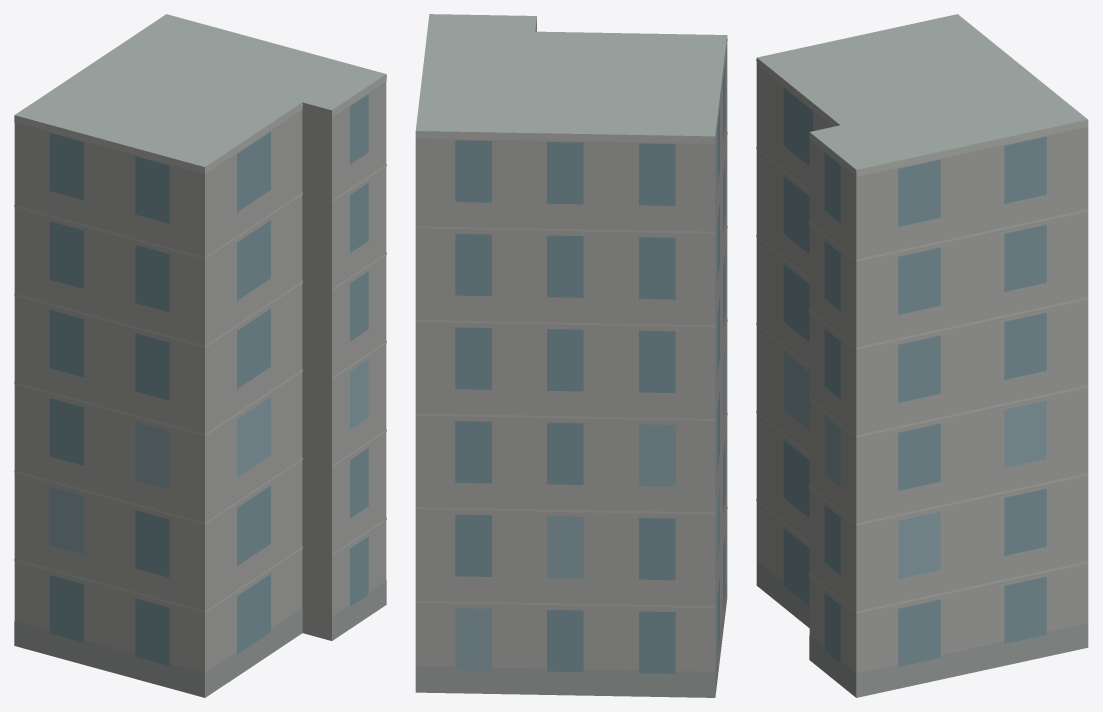
File: survey-upis-32824471.glb
The picture shows the model from 3 angles, left to right: view 1: azimuth 30°, elevation 25°; view 2: azimuth 150°, elevation 25°; view 3: azimuth 270°, elevation 25°; orthographic projection. The views are drawn at different scales.
Parts seen in each view (by area): view 1: survey-upis-32824471.tmp; view 2: survey-upis-32824471.tmp; view 3: survey-upis-32824471.tmp.
Part boxes in pixels (x1,y1,x2,y2): survey-upis-32824471.tmp: (14, 14, 386, 697); survey-upis-32824471.tmp: (415, 14, 727, 697); survey-upis-32824471.tmp: (756, 14, 1088, 697).
Bounding box in the file's own units: 11.52 × 18.15 × 10.35.
